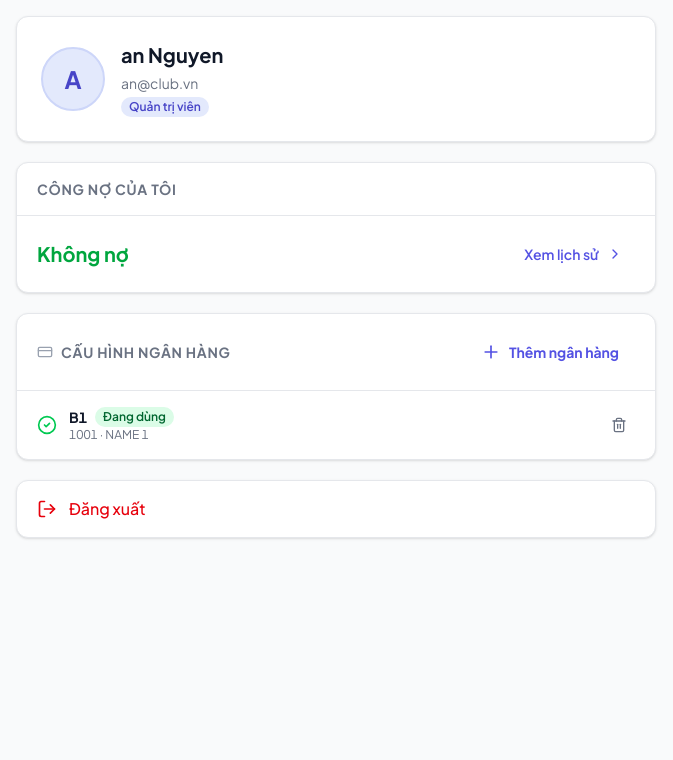
Test case: ProfileView (I/O matrix) › bank add form: save disabled while addLoading
Click the button "Thêm ngân hàng". click: (550, 352)
box: [465,330,635,374]
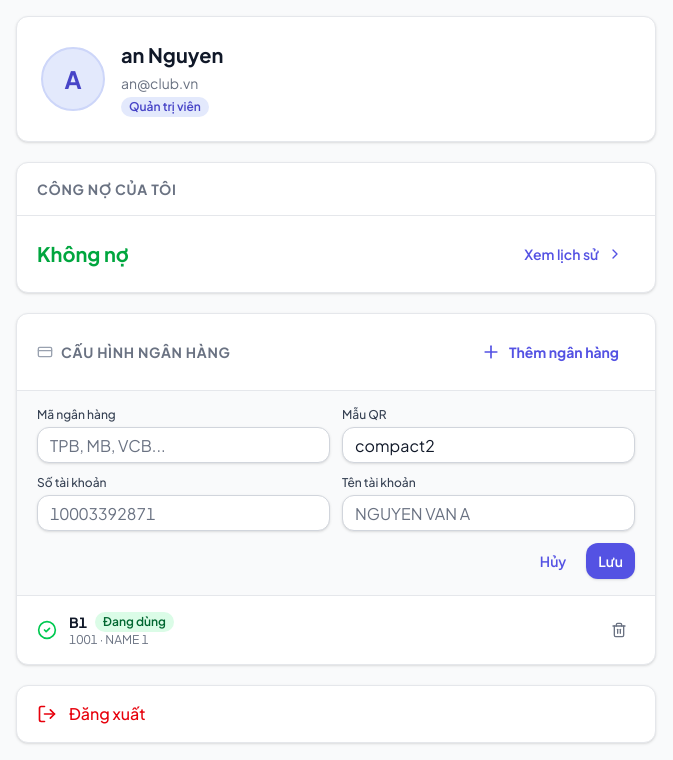
Type "TPB" into the field labelled "Mã ngân hàng". click: (184, 445)
box: [37,427,330,463]
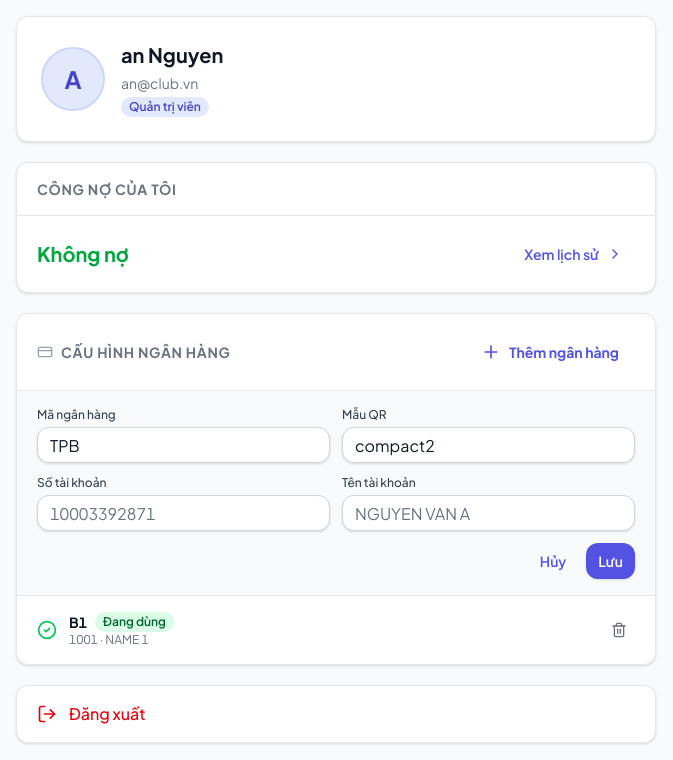
Type "1" into the field labelled "Số tài khoản". click: (184, 513)
box: [37,495,330,531]
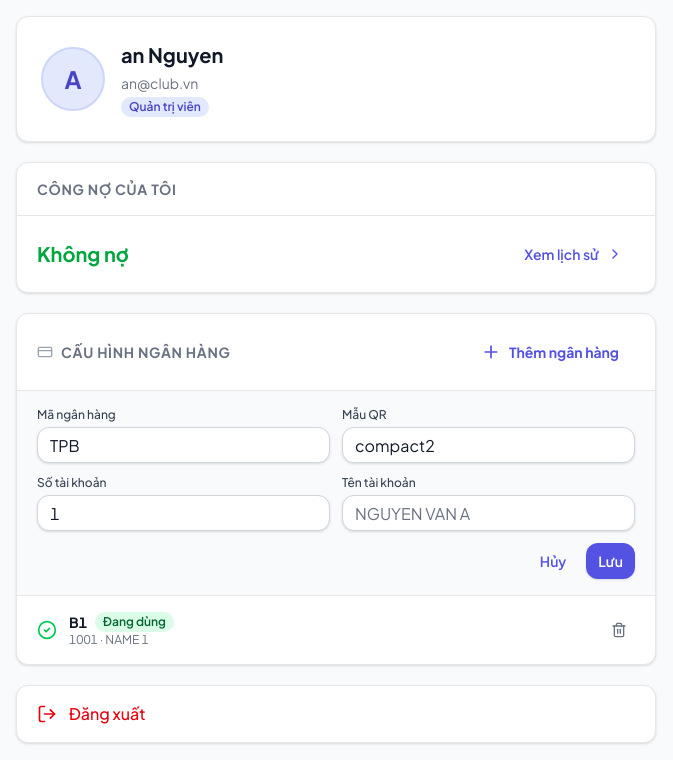
Type "A" into the field labelled "Tên tài khoản". click: (488, 513)
box: [342,495,635,531]
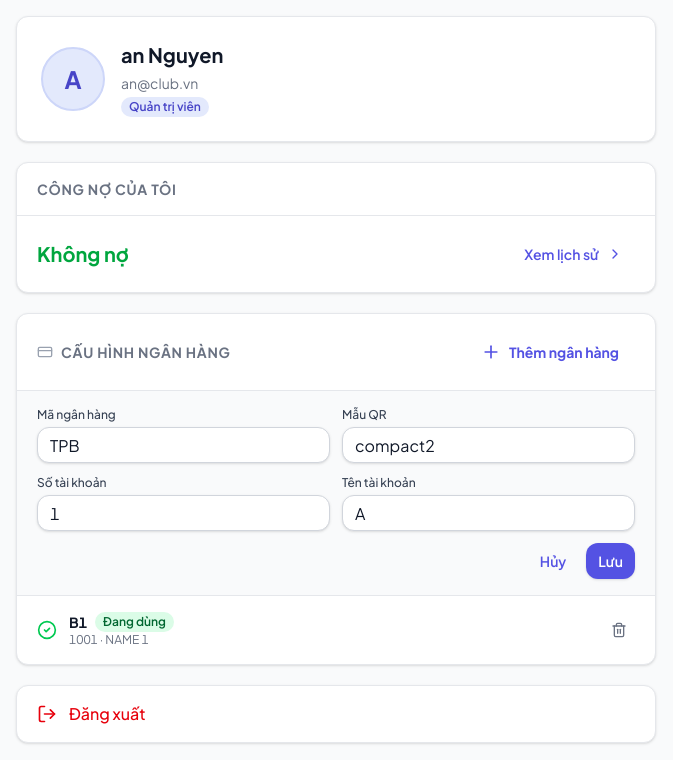
Expected: the button "Lưu" is enabled
Click the button "Lưu". click: (611, 561)
box: [586,543,635,579]
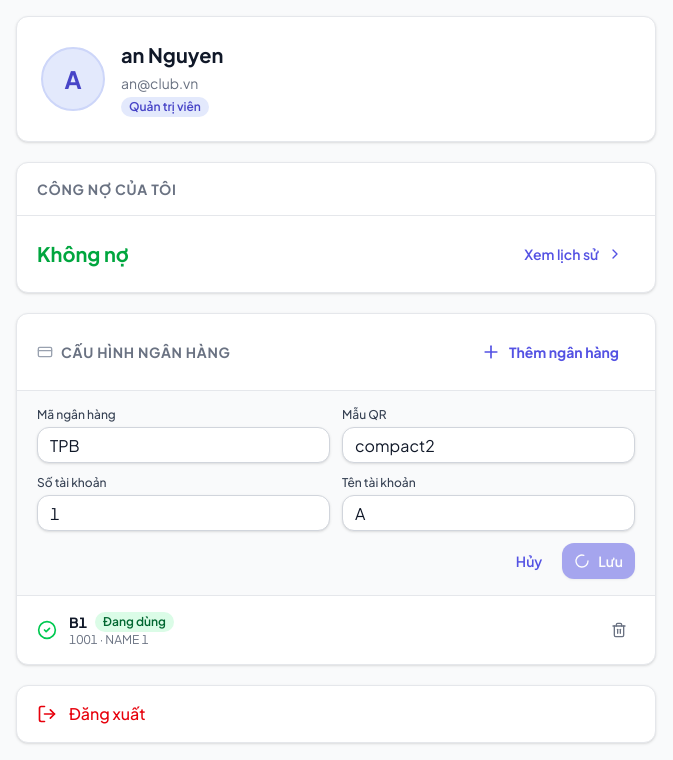
Expected: the button "Lưu" is disabled, [562,543,635,579]
